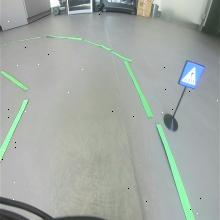crosswalk: (178, 60, 204, 90)
